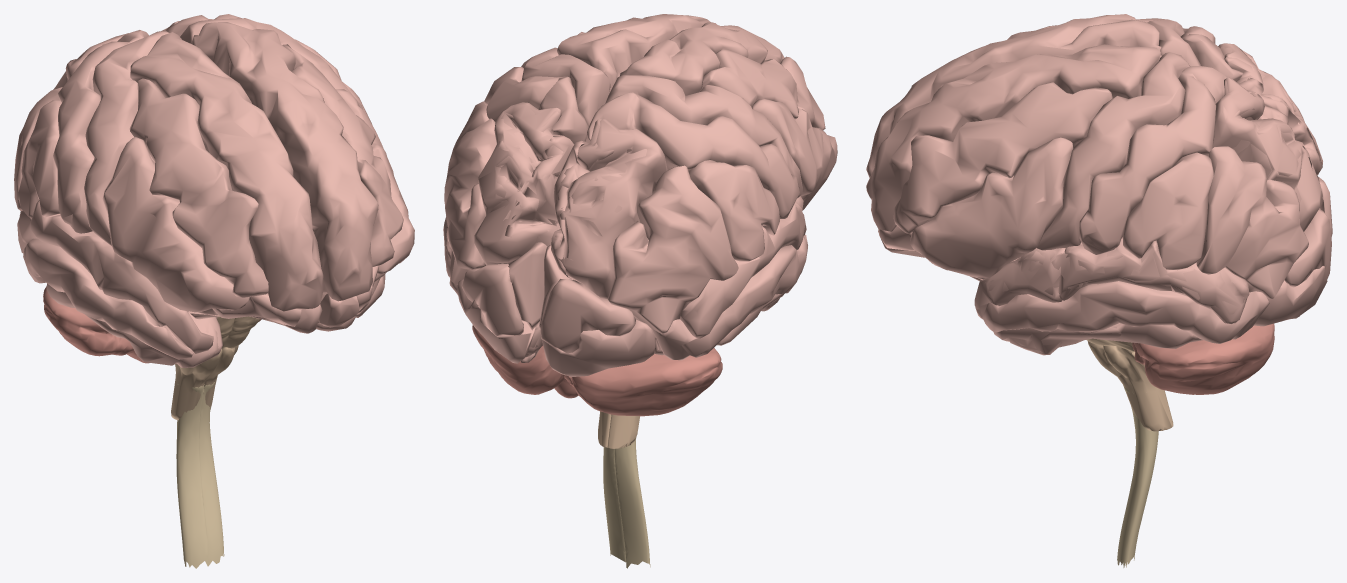
File: brain.glb
The picture shows the model from 3 angles, left to right: view 1: azimuth 30°, elevation 25°; view 2: azimuth 150°, elevation 25°; view 3: azimuth 270°, elevation 25°; orthographic projection.
Visible parts, largest first — view 1: cerebrum, cord, brainstem, cerebellum; view 2: cerebrum, cerebellum, cord, brainstem; view 3: cerebrum, cerebellum, brainstem, cord.
Boxes of the visible parts, box(x1,y1,x2,y2) form: cerebrum: box(14, 14, 414, 367); cord: box(176, 380, 224, 568); brainstem: box(171, 316, 260, 420); cerebellum: box(43, 286, 261, 363); cerebrum: box(443, 14, 837, 377); cerebellum: box(472, 325, 722, 416); cord: box(603, 437, 650, 568); brainstem: box(598, 411, 639, 448); cerebrum: box(866, 14, 1332, 355); cerebellum: box(1132, 323, 1274, 394); brainstem: box(1086, 338, 1173, 431); cord: box(1117, 387, 1158, 567).
Bounding box in the file's own units: 1.62 × 2.6 × 2.09.
